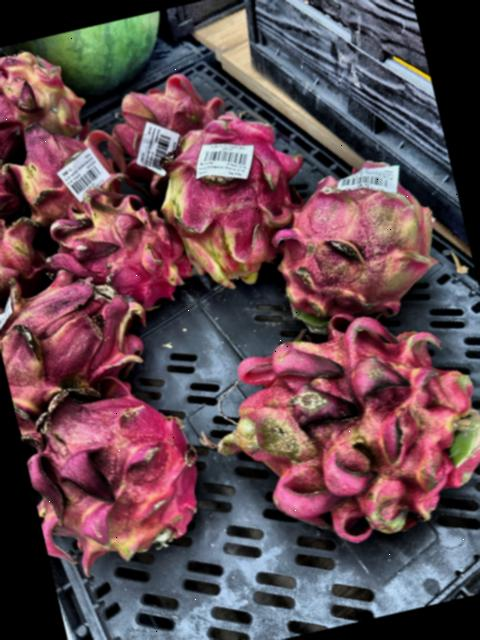buah-naga-belum-matang: (203, 301, 480, 544), (13, 365, 223, 569), (260, 148, 447, 332), (150, 100, 316, 290), (0, 263, 145, 405), (44, 186, 196, 308), (97, 62, 219, 168), (0, 120, 107, 220), (0, 38, 87, 160), (0, 197, 47, 307), (0, 131, 26, 217)
